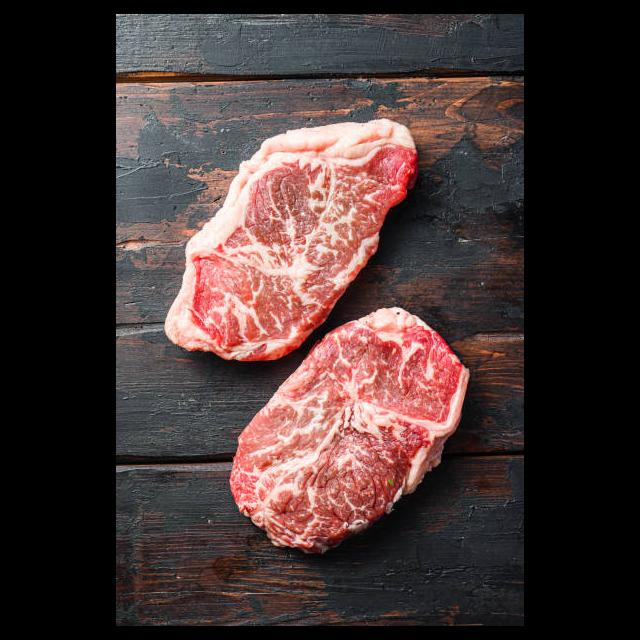beef: (163, 117, 412, 367), (232, 301, 470, 554)
